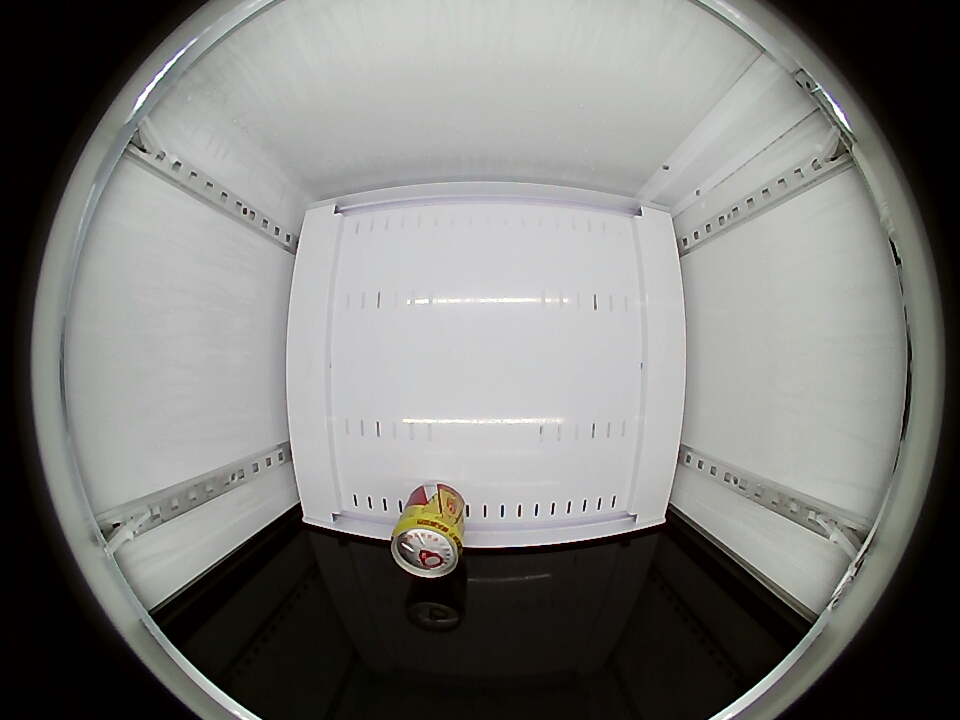dongpeng: (390, 515, 464, 578)
